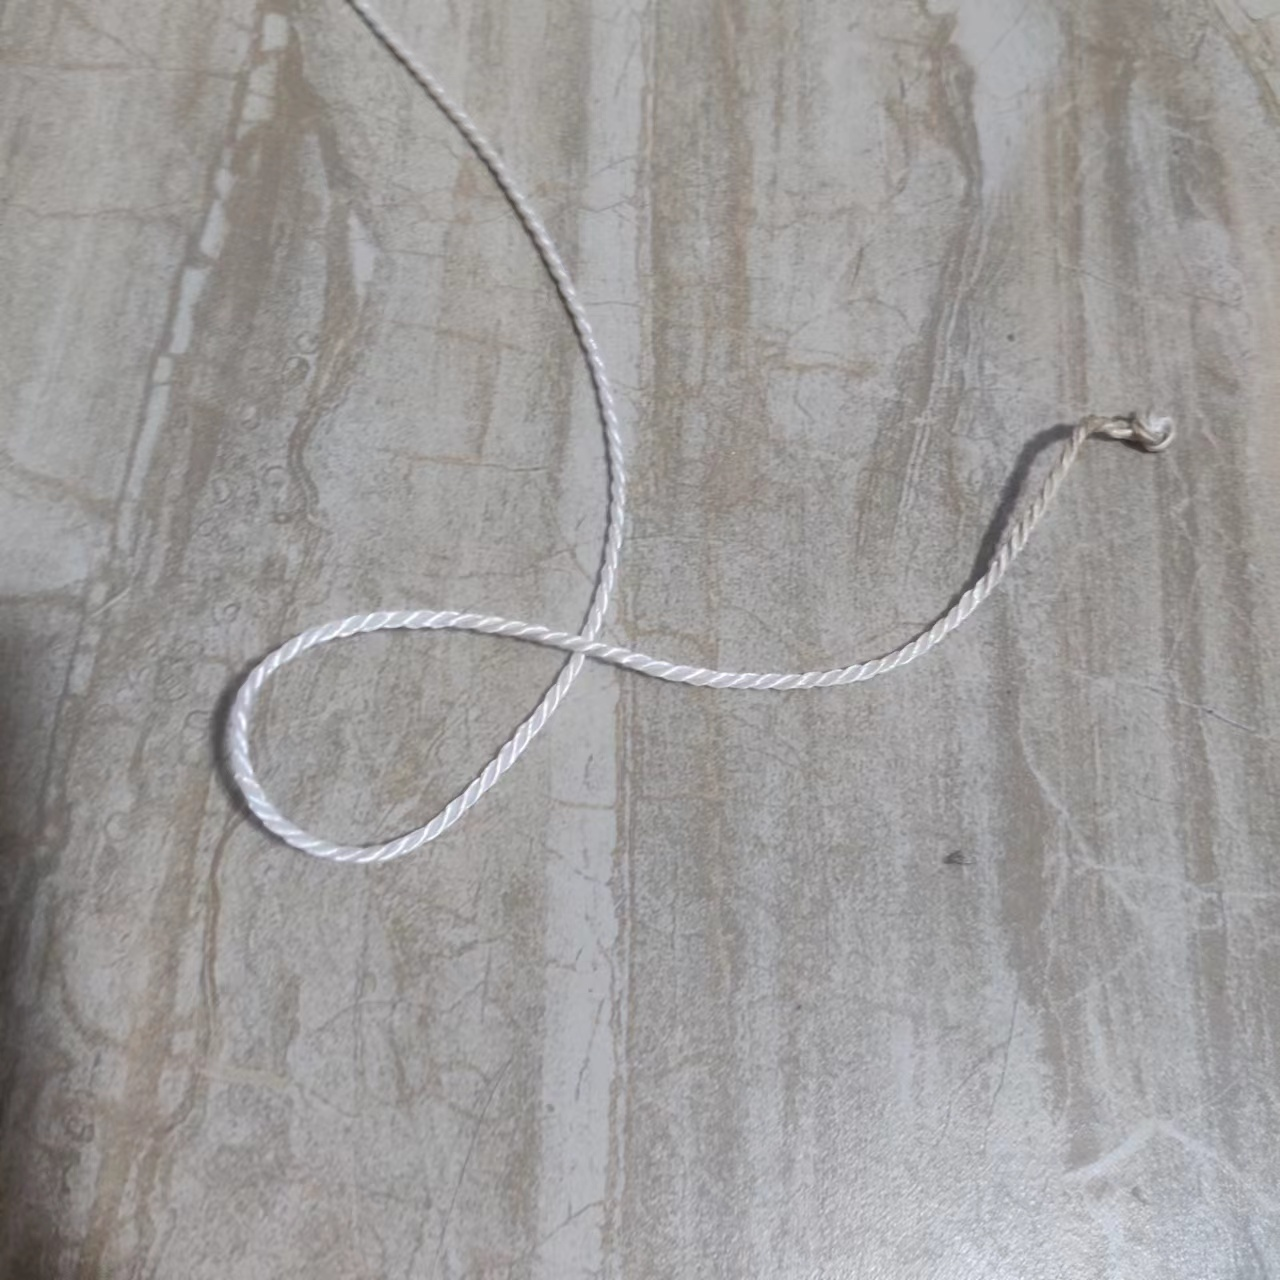9/可回收垃圾/绳子: (215, 1, 1179, 869)
